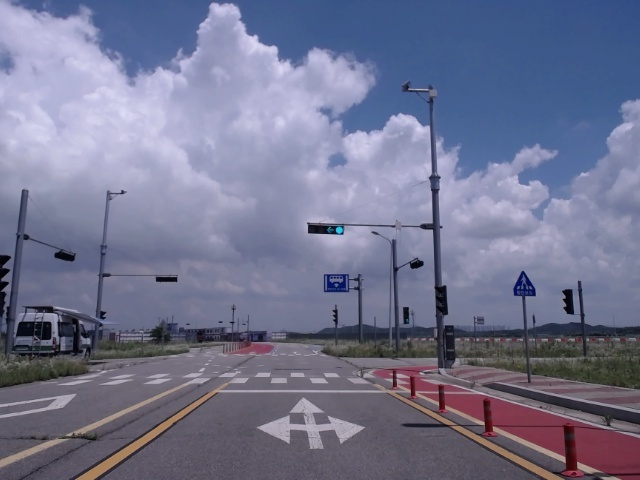all_green_4: (307, 219, 346, 237)
